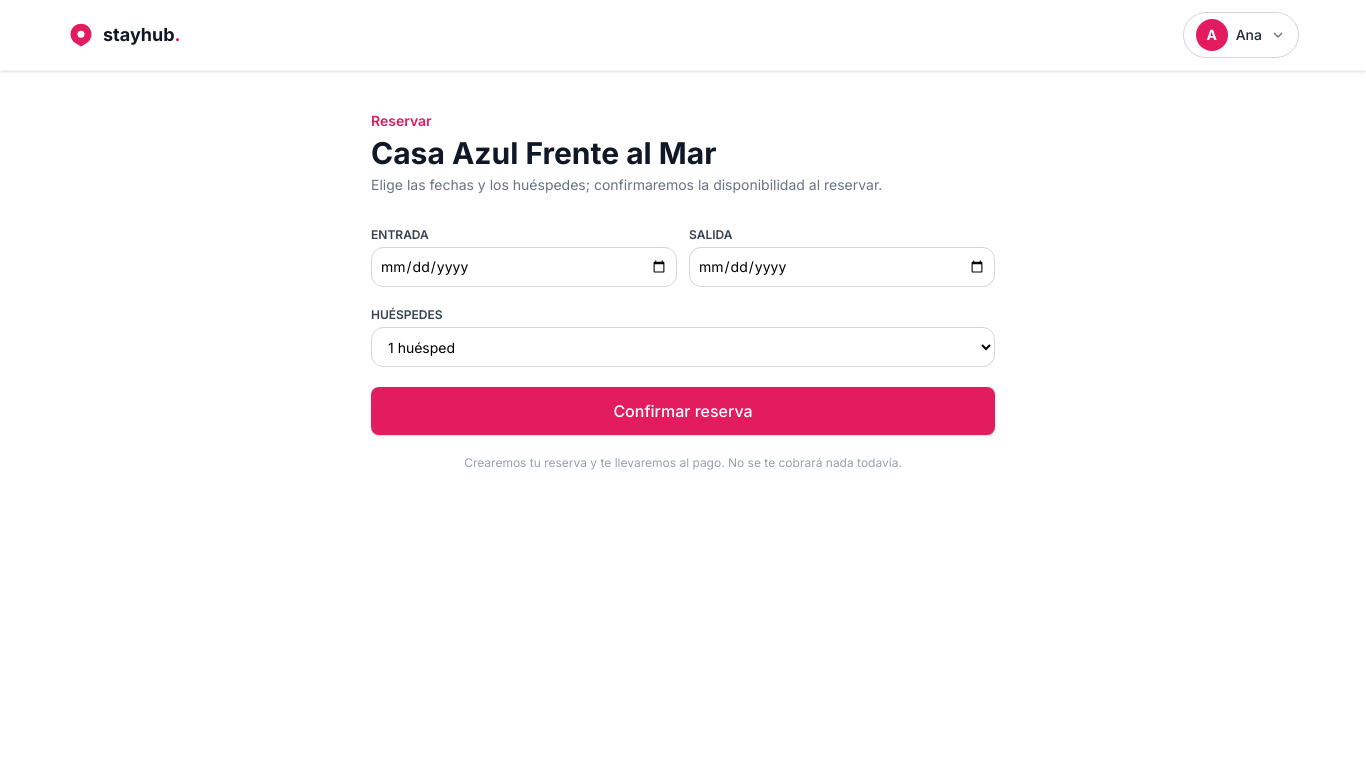
Booking flow — confirmation › rejects overlapping dates (409) and keeps the entered values
This screenshot has width=1366, height=768.
Expected: the heading "Casa Azul Frente al Mar" is shown, [371, 135, 716, 171]
In the date field labelled "ENTRADA": (524, 267) [371, 247, 677, 287], type "2026-12-12"
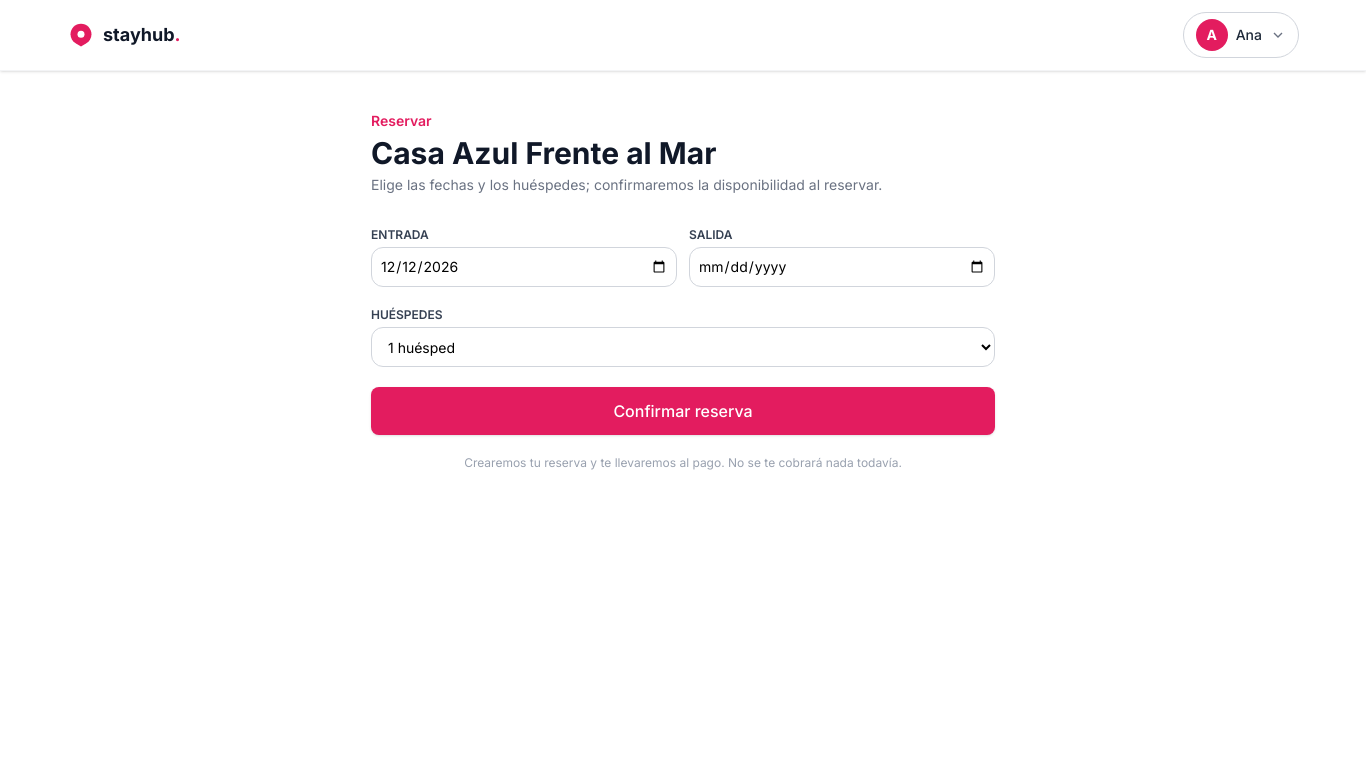
In the date field labelled "SALIDA": (842, 267) [689, 247, 995, 287], type "2026-12-16"
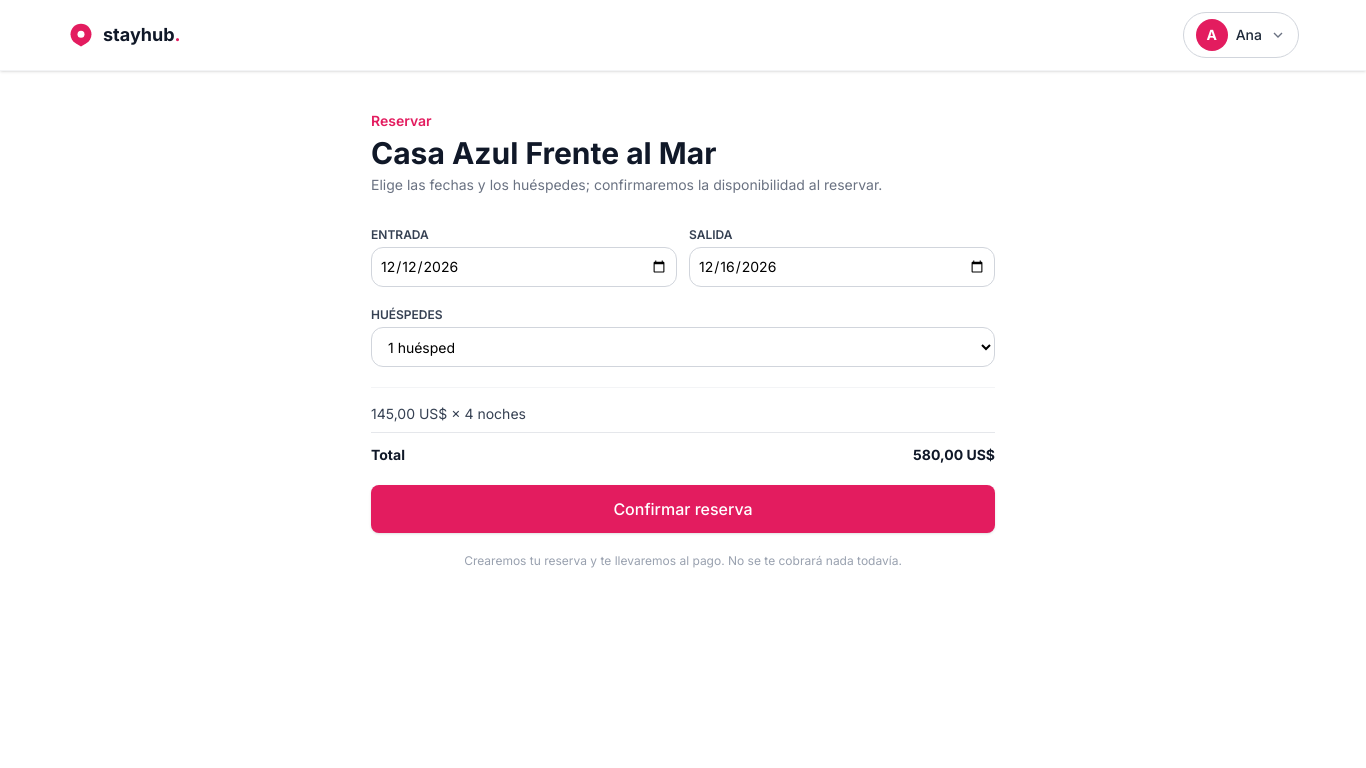
Click the button "Confirmar reserva": click(683, 509) [371, 485, 995, 533]
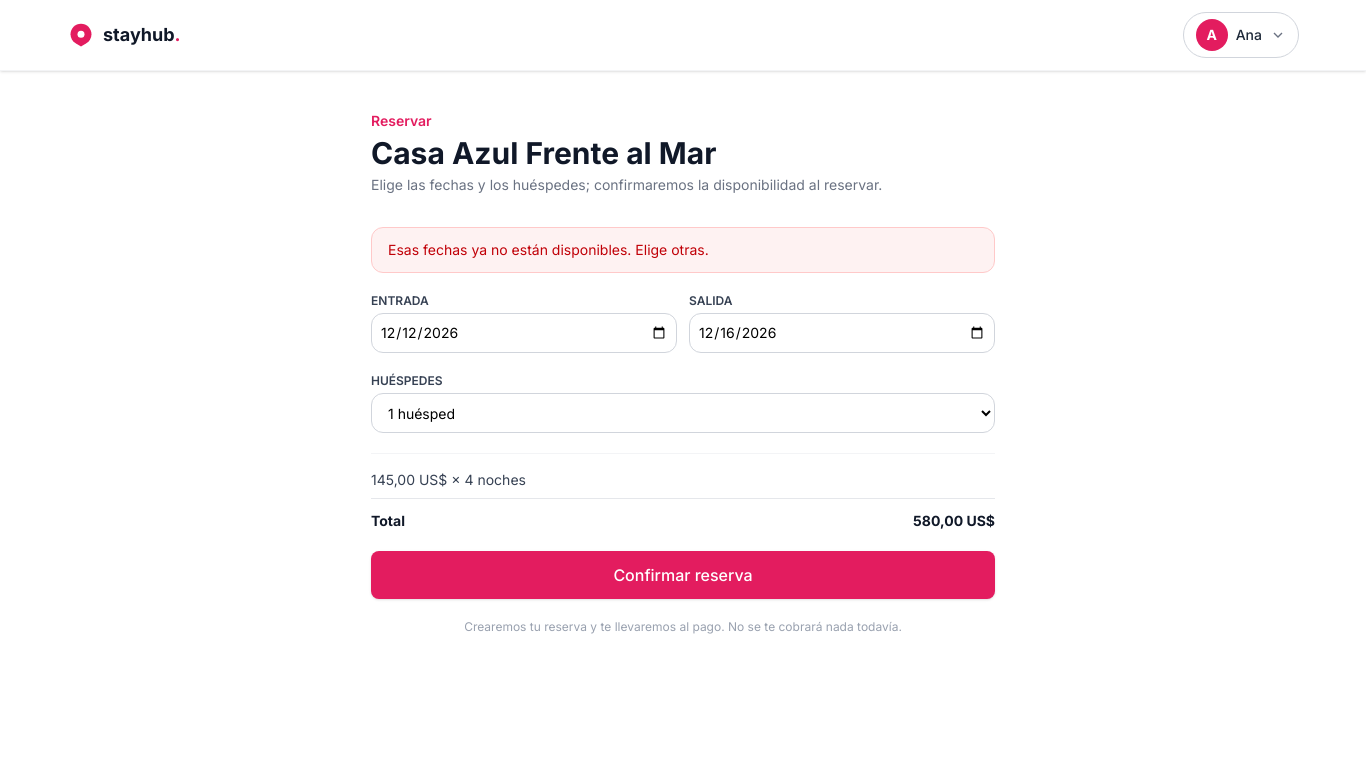
Result: the text "Esas fechas ya no están disponibles. Elige otras." is shown at [388, 241, 709, 258]
